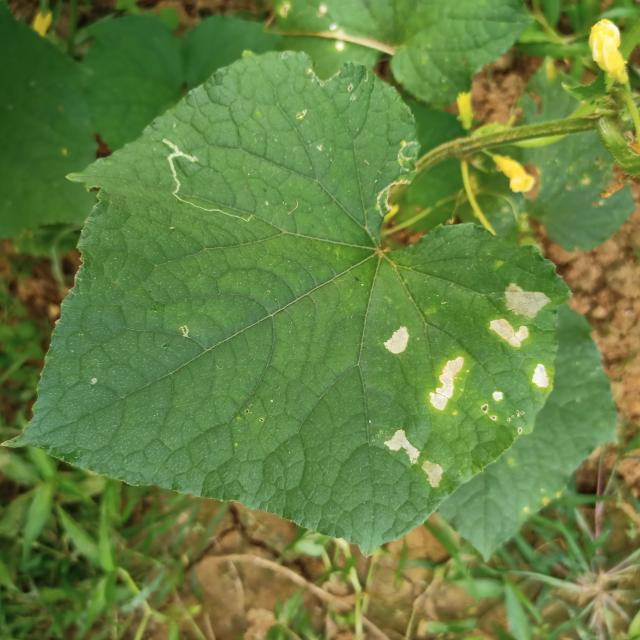disease_cucumber: (487, 280, 559, 399), (428, 354, 507, 420), (382, 426, 449, 492), (380, 320, 414, 361)
